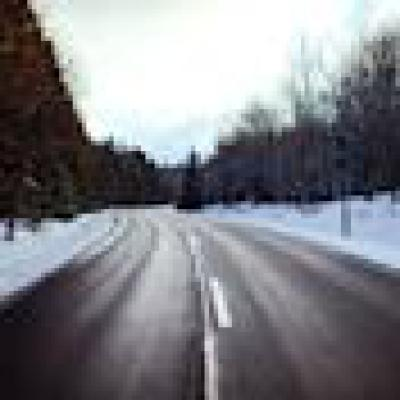iced-road: (0, 223, 400, 400)
